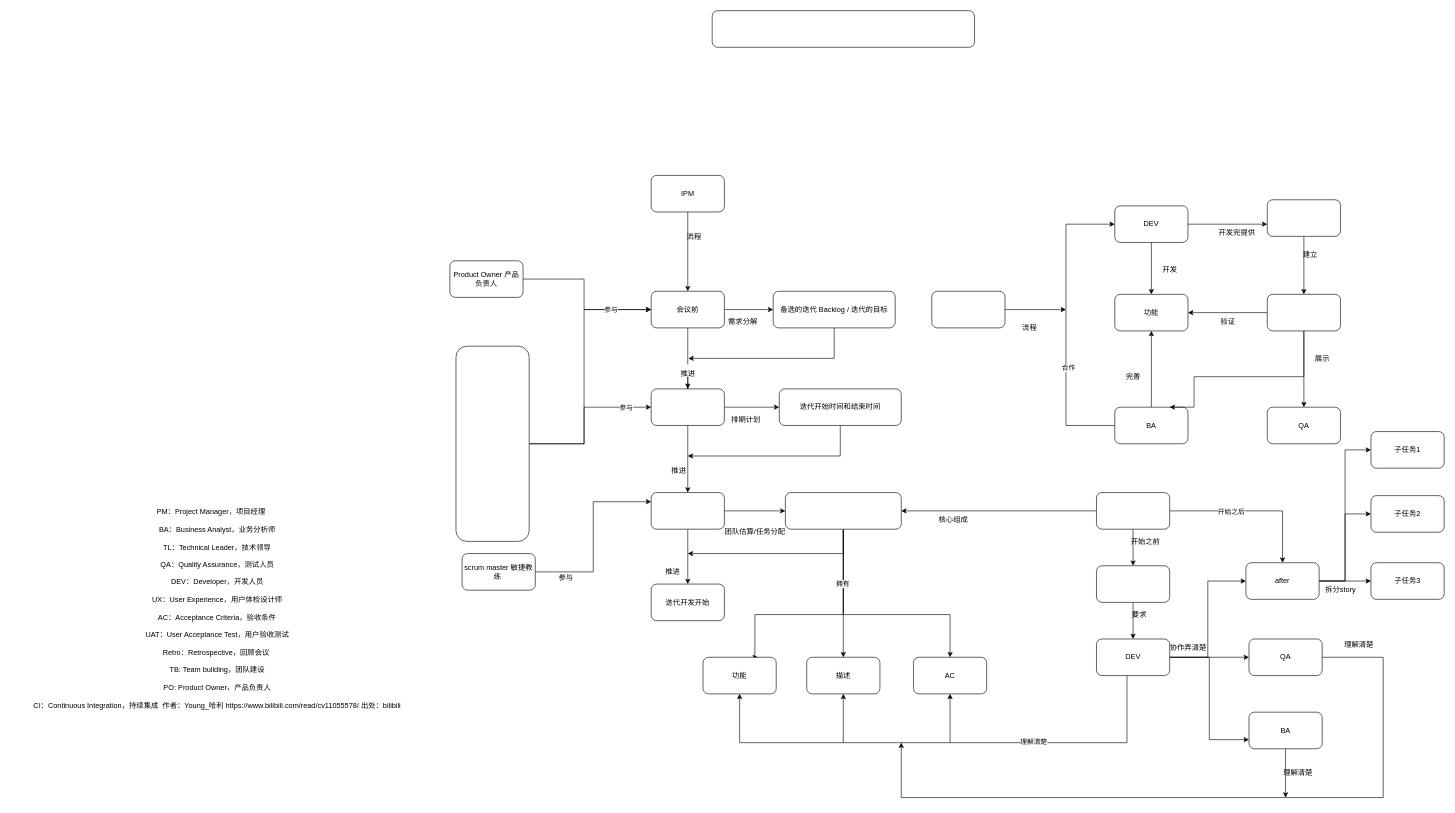
This 1455x813 diagram has some shape labels left out. Each missing label, with the box of its shape:
before: (1096, 565, 1170, 602)
Desk check: (931, 291, 1005, 328)
Focus Question :How to do with IPM/ Story Kick off/Desk check?: (712, 10, 974, 47)
mock data: (1267, 199, 1340, 236)
Product Designer / Iteration Master / Team Members (开发、测试): (455, 346, 529, 541)
Story Kick off: (1096, 492, 1170, 529)
UserStory: (785, 492, 901, 529)
会议中: (651, 388, 724, 425)
会议结束: (651, 492, 724, 529)
验证条件: (1267, 294, 1340, 331)
